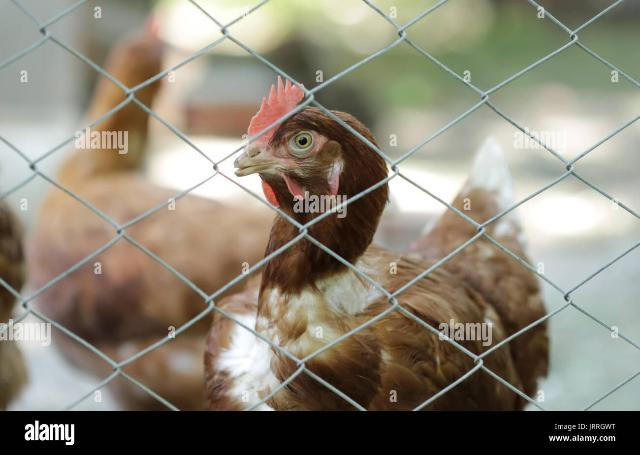Chicken: (205, 76, 550, 410)
